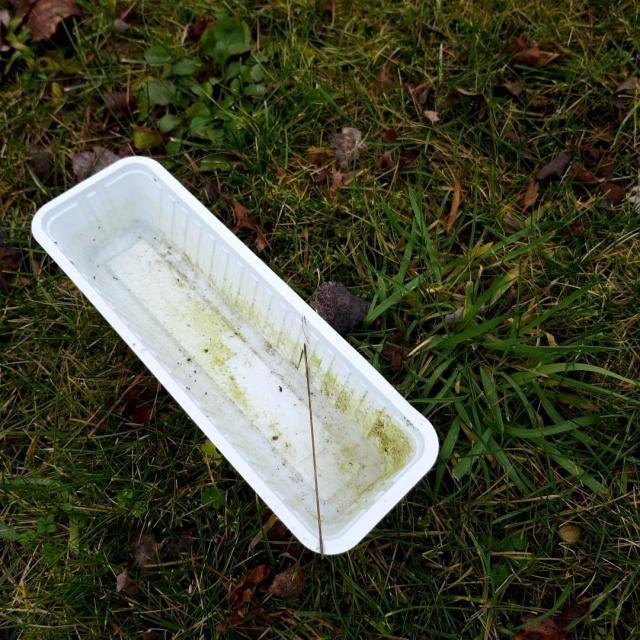Plastic: (28, 152, 441, 557)
